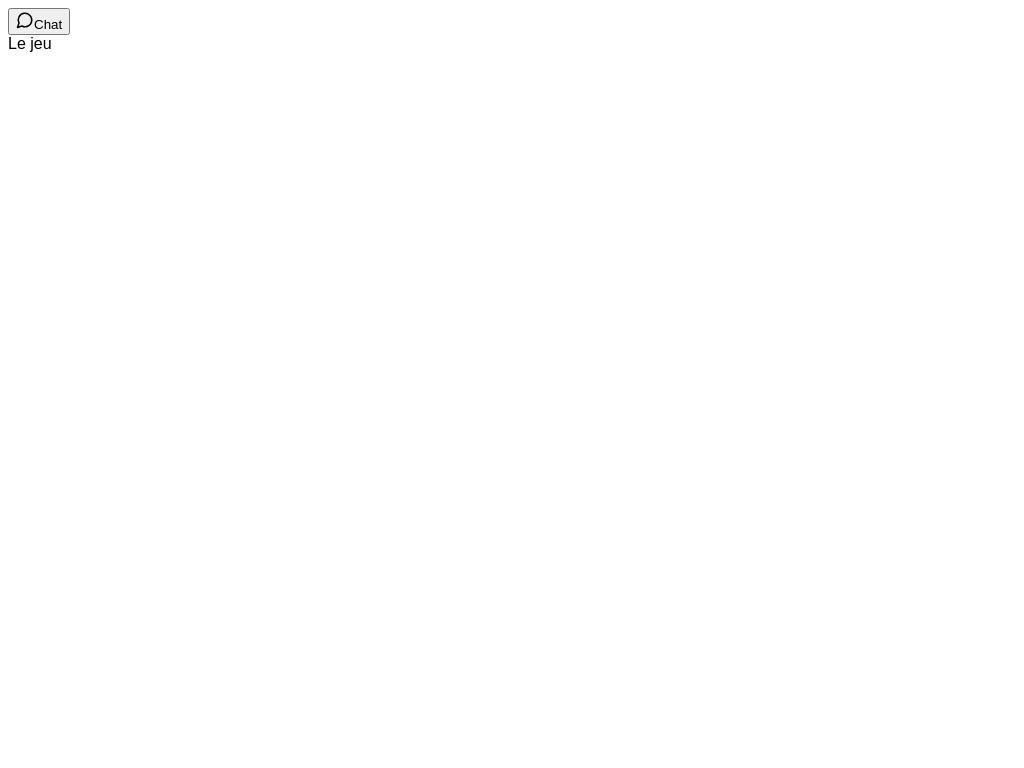
Scenario: Imitation chat › keeps a failed message and shows an actionable error
Click the button "Chat" at (39, 22), box [8,8,70,35]
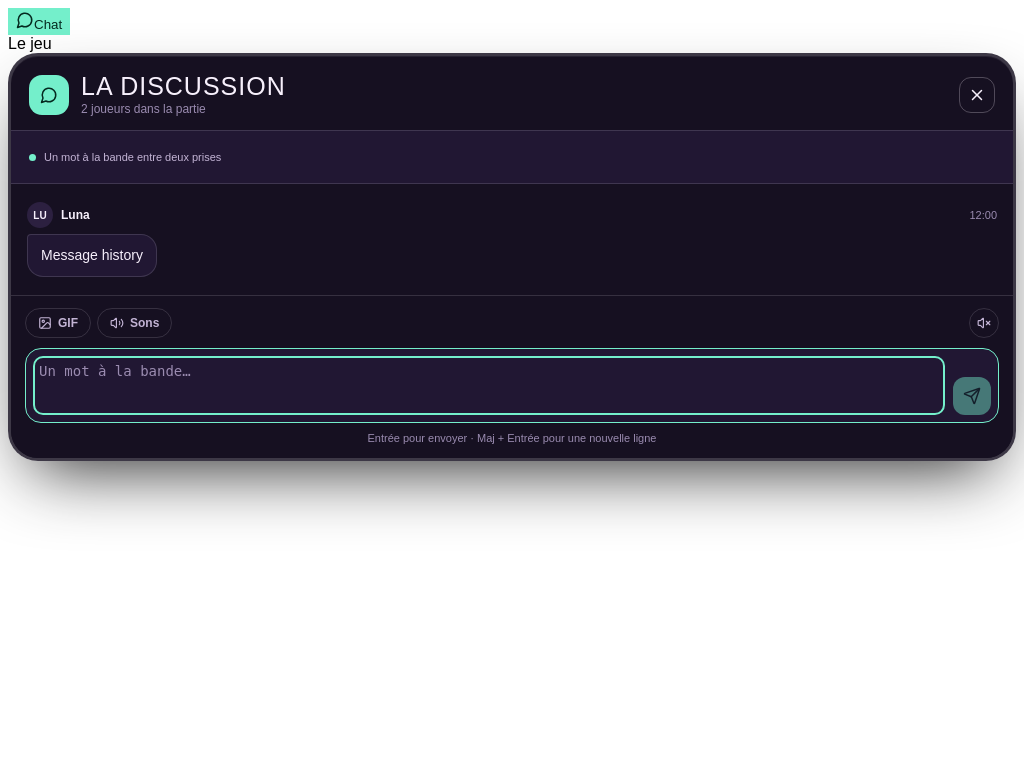
Type "Mon message" into the text box at (489, 386), box [33,356,945,415]
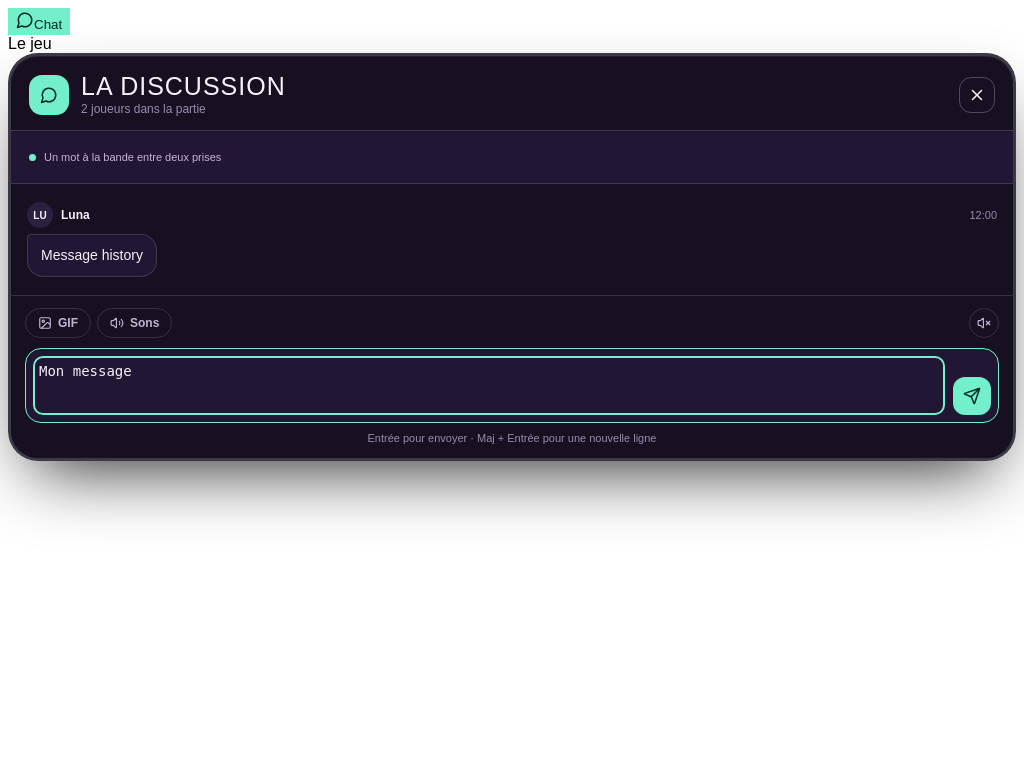
Click the button named "Envoyer le message" at (972, 396), box [953,377,991,415]
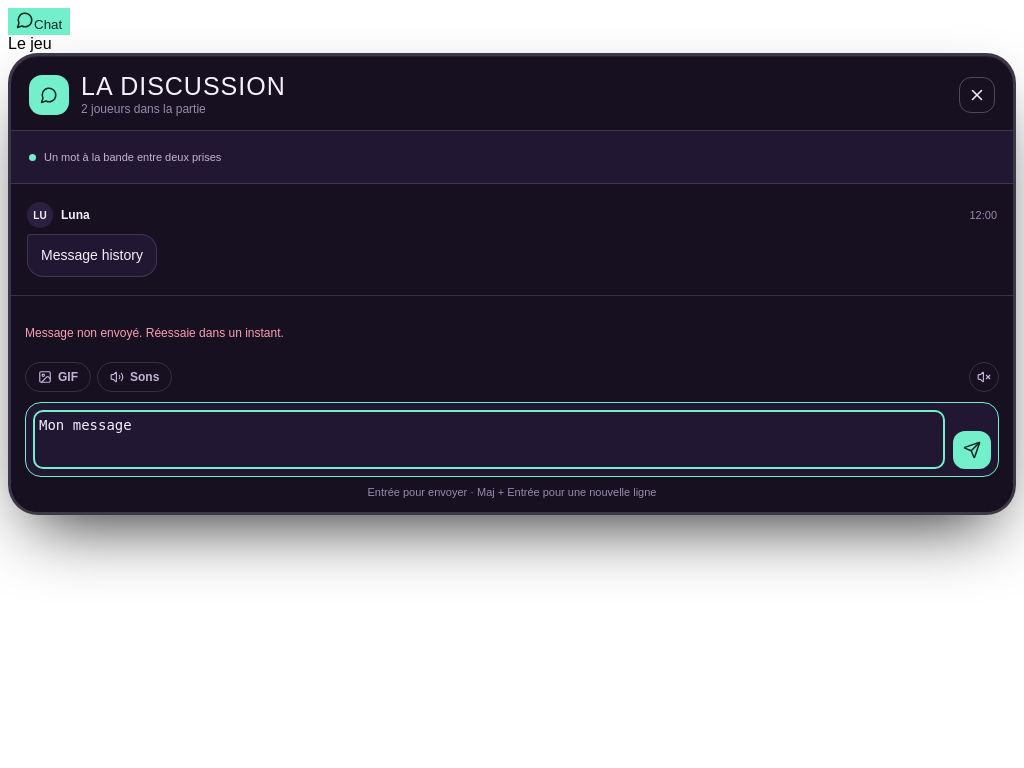
Expected: the message "Message non envoyé. Réessaie dans un instant." is shown, [25,326,284,340]
